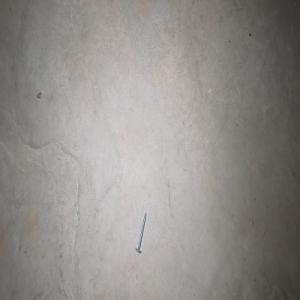Bolt: (135, 211, 147, 253)
